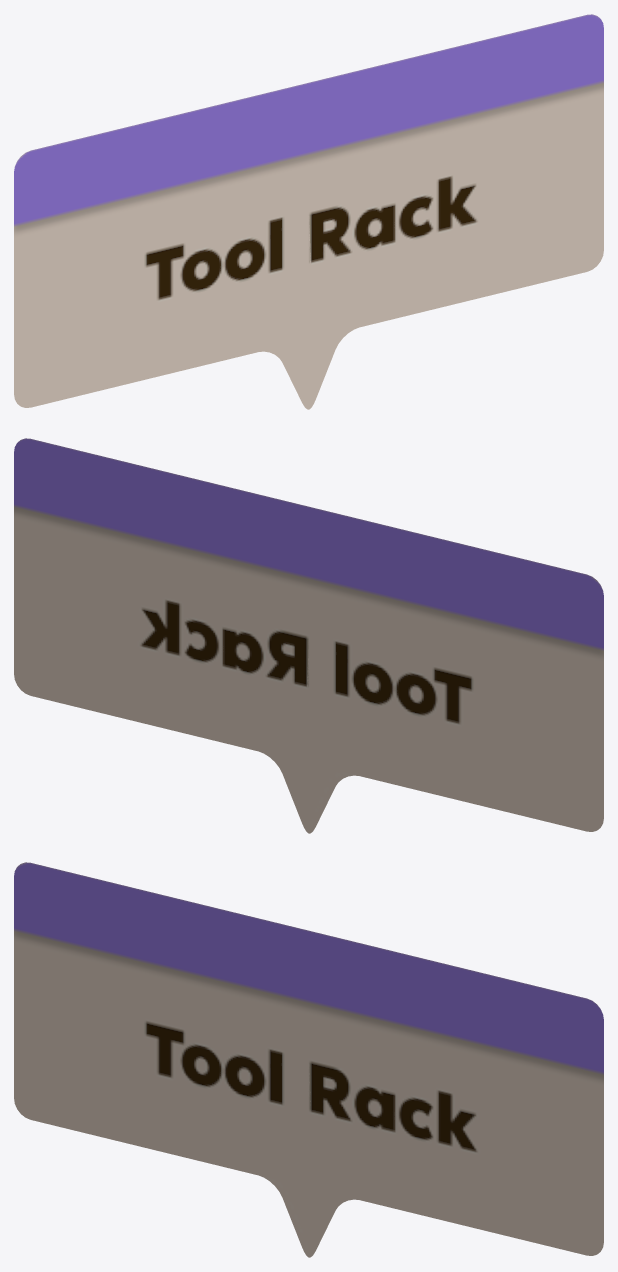
The model's file is HOTSPOT_V2.glb.
The picture shows the model from 3 angles, top to bottom: view 1: azimuth 30°, elevation 25°; view 2: azimuth 150°, elevation 25°; view 3: azimuth 330°, elevation 25°; orthographic projection.
Visible parts, largest first — view 1: Cube.001; view 2: Cube.001; view 3: Cube.001.
Boxes of the visible parts, left/top/right/bottom form: Cube.001: left=14, top=14, right=603, bottom=409; Cube.001: left=14, top=438, right=603, bottom=833; Cube.001: left=14, top=862, right=603, bottom=1257.
Size of the model in its own units: 0.4864 by 0.2575 by 9.86e-08.
Materials: 1 (1 with a texture image).
